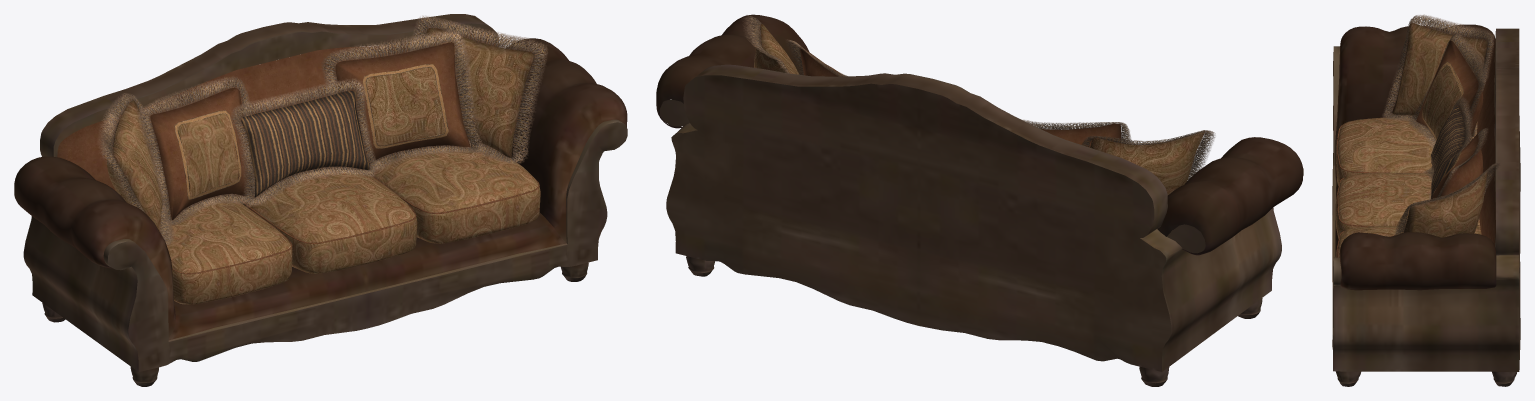
Rendered from SheenWoodLeatherSofa.glb.
The picture shows the model from 3 angles, left to right: view 1: azimuth 30°, elevation 25°; view 2: azimuth 150°, elevation 25°; view 3: azimuth 270°, elevation 25°; orthographic projection. The views are drawn at different scales.
Parts seen in each view (by area): view 1: Frame, Paisley, Fringe, Brown, Stripes, Frame_Fabric; view 2: Frame, Paisley, Fringe, Brown; view 3: Frame, Paisley, Fringe, Brown, Frame_Fabric, Stripes.
Part boxes in pixels (x1,y1,x2,y2): Frame: [14, 14, 627, 386]; Paisley: [107, 28, 540, 304]; Fringe: [98, 15, 547, 245]; Brown: [150, 42, 539, 274]; Stripes: [174, 64, 448, 199]; Frame_Fabric: [57, 33, 494, 190]; Frame: [656, 14, 1303, 386]; Paisley: [754, 23, 1204, 195]; Fringe: [743, 15, 1215, 180]; Brown: [800, 46, 1121, 147]; Frame: [1332, 24, 1520, 386]; Paisley: [1336, 23, 1487, 257]; Fringe: [1382, 14, 1499, 235]; Brown: [1337, 40, 1483, 257]; Frame_Fabric: [1477, 39, 1495, 245]; Stripes: [1422, 61, 1472, 198].
Size of the model in its own units: 2.73 by 1.12 by 0.9225.
Materials: 6 (6 with a texture image).
